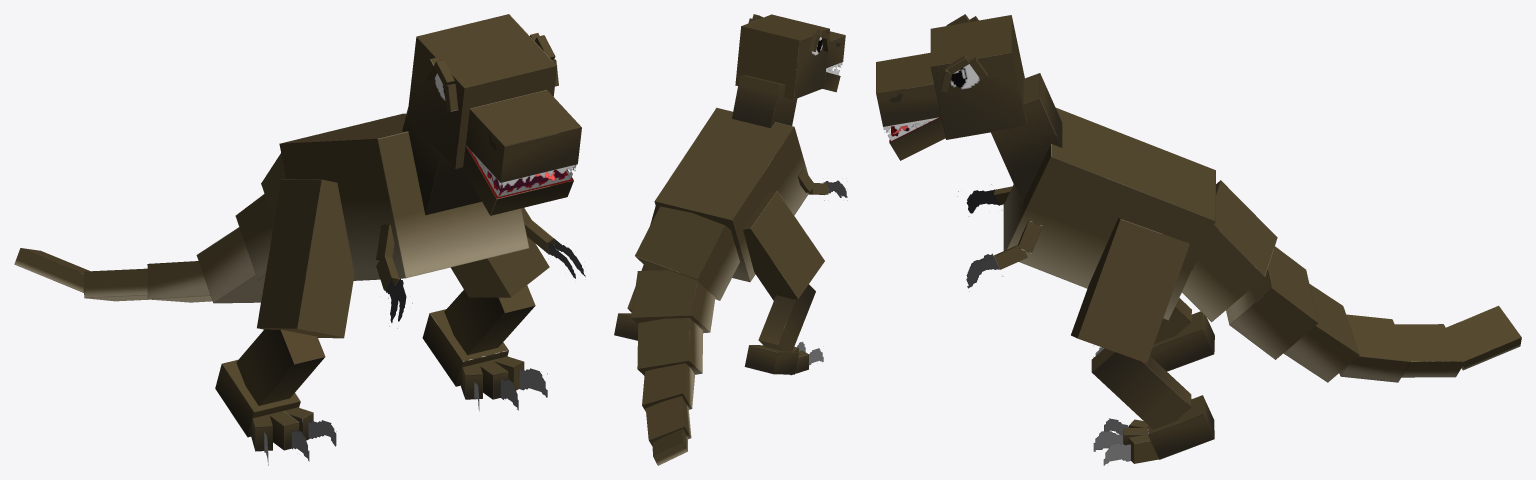
Rendered from animateddinosaur26.obj.
The picture shows the model from 3 angles, left to right: view 1: azimuth 30°, elevation 25°; view 2: azimuth 150°, elevation 25°; view 3: azimuth 270°, elevation 25°; orthographic projection. The views are drawn at different scales.
Parts seen in each view (by area): view 1: Object_6, Object_9, Object_64, Object_56, Object_12, Object_34, Object_53, Object_98, Object_31, Object_79, Object_101, Object_37 (+9 smaller); view 2: Object_6, Object_92, Object_64, Object_9, Object_95, Object_98, Object_53, Object_12, Object_101, Object_104, Object_15, Object_107 (+4 smaller); view 3: Object_6, Object_31, Object_64, Object_92, Object_95, Object_34, Object_53, Object_56, Object_98, Object_101, Object_104, Object_107 (+5 smaller).
Part boxes in pixels (x1=…): Object_6: x1=279, y1=113, x2=529, y2=280; Object_9: x1=257, y1=179, x2=354, y2=338; Object_64: x1=407, y1=14, x2=557, y2=168; Object_56: x1=465, y1=90, x2=581, y2=182; Object_12: x1=236, y1=329, x2=325, y2=405; Object_34: x1=444, y1=285, x2=535, y2=355; Object_53: x1=402, y1=107, x2=481, y2=215; Object_98: x1=196, y1=227, x2=264, y2=303; Object_31: x1=450, y1=237, x2=549, y2=297; Object_79: x1=462, y1=146, x2=573, y2=215; Object_101: x1=147, y1=261, x2=212, y2=302; Object_37: x1=422, y1=309, x2=508, y2=386; Object_6: x1=654, y1=107, x2=808, y2=282; Object_92: x1=635, y1=206, x2=739, y2=300; Object_64: x1=735, y1=14, x2=829, y2=99; Object_9: x1=743, y1=190, x2=824, y2=300; Object_95: x1=631, y1=270, x2=715, y2=332; Object_98: x1=637, y1=318, x2=703, y2=375; Object_53: x1=732, y1=75, x2=797, y2=128; Object_12: x1=758, y1=284, x2=815, y2=351; Object_101: x1=642, y1=363, x2=694, y2=411; Object_104: x1=645, y1=396, x2=691, y2=446; Object_15: x1=744, y1=345, x2=799, y2=374; Object_107: x1=652, y1=428, x2=687, y2=465; Object_6: x1=1003, y1=108, x2=1215, y2=320; Object_31: x1=1071, y1=218, x2=1189, y2=363; Object_64: x1=930, y1=15, x2=1026, y2=139; Object_92: x1=1182, y1=180, x2=1277, y2=322; Object_95: x1=1226, y1=246, x2=1318, y2=359; Object_34: x1=1091, y1=348, x2=1191, y2=429; Object_53: x1=991, y1=73, x2=1062, y2=203; Object_56: x1=876, y1=52, x2=940, y2=126; Object_98: x1=1283, y1=284, x2=1359, y2=382; Object_101: x1=1339, y1=314, x2=1410, y2=382; Object_104: x1=1395, y1=324, x2=1465, y2=377; Object_107: x1=1446, y1=305, x2=1521, y2=370.
Size of the model in its own units: 2.42 by 3.48 by 5.39.
